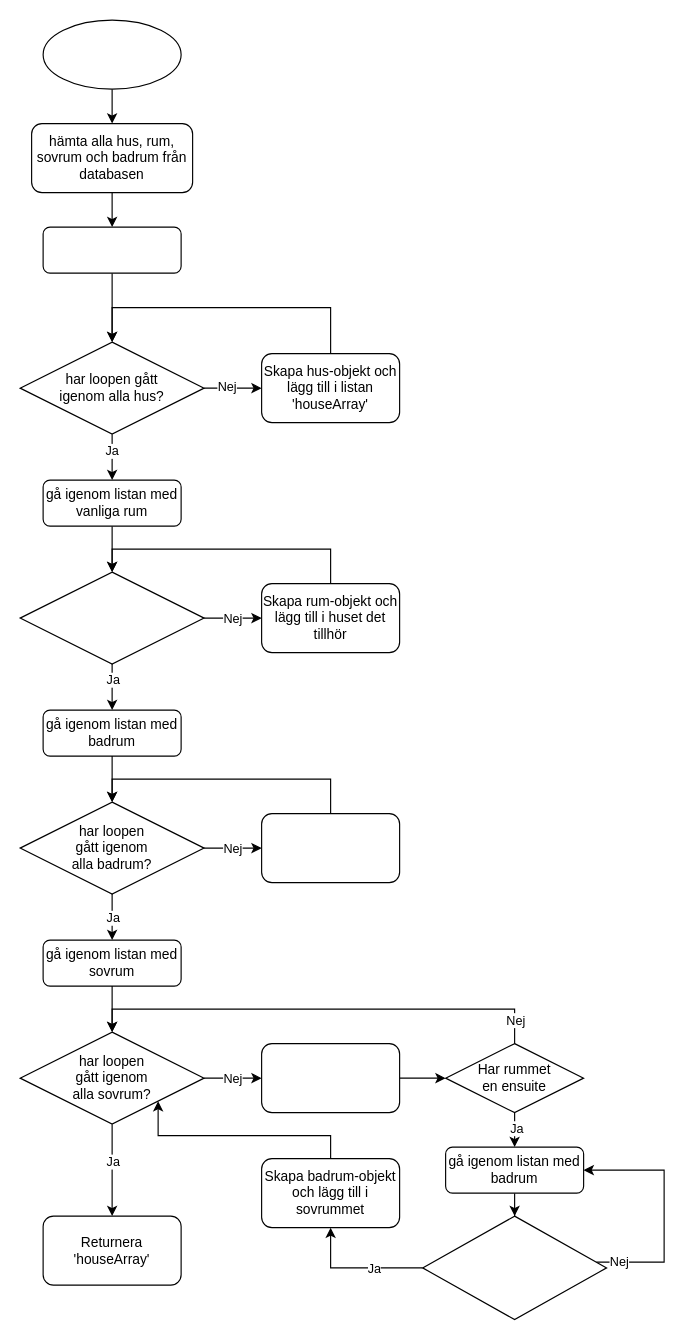
This 693x1340 diagram has some shape labels left out. The shapes that lost their labels are listed below. From the top down, each one's box as (x1, y1, x2, y2) in pixels, then its label:
(42, 19, 181, 89): Start
(42, 226, 181, 273): gå igenom listan med hus
(19, 571, 204, 664): har loopen gått igenom alla rum?
(260, 812, 400, 883): Skapa badrum-objekt och lägg till i huset det tillhör
(260, 1042, 400, 1113): Skapa sovrum-objekt och lägg till i huset det tillhör
(421, 1215, 607, 1320): Matchar badrummets id sovrummets enSuiteId?
